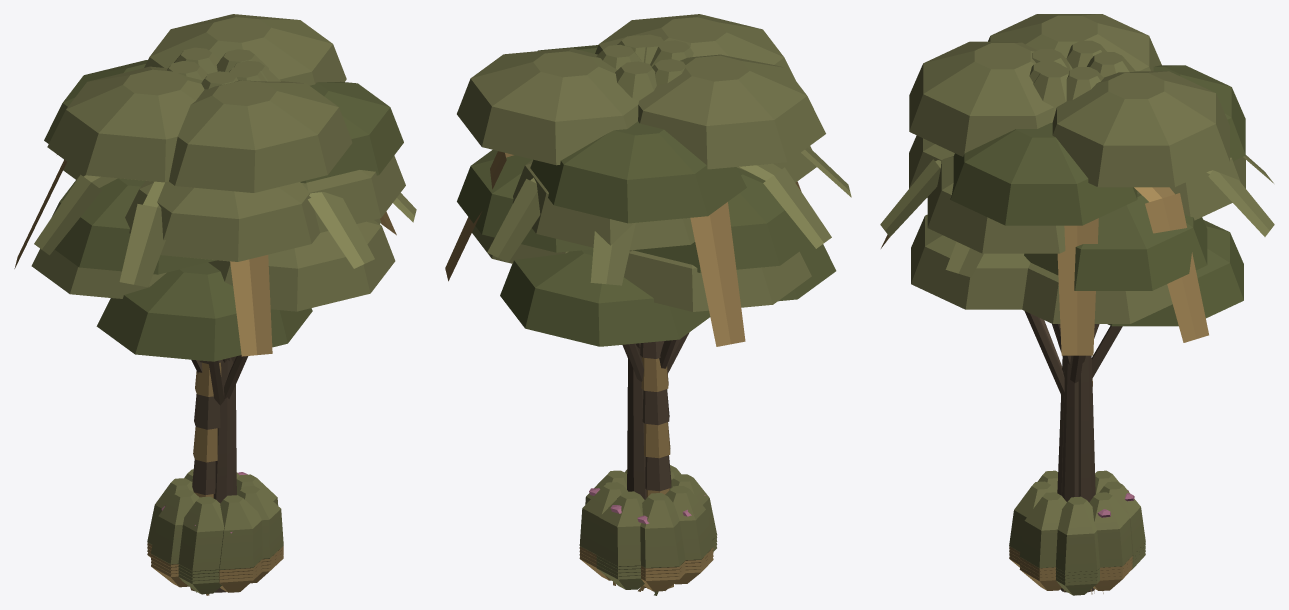
Rendered from ap_vegetacion.glb.
3 views of the same model, side by side, from view 1: azimuth 30°, elevation 25°; view 2: azimuth 150°, elevation 25°; view 3: azimuth 270°, elevation 25° (orthographic).
Parts seen in each view (by area): view 1: pino_3__malla, pino_1__malla, pino_2__malla, palmera_1__malla, adelfa_1__malla, eucalipto_2__malla, eucalipto_1__malla, mata_seca_1__malla, mata_seca_3__malla, mata_seca_2__malla; view 2: pino_3__malla, pino_1__malla, palmera_1__malla, pino_2__malla, adelfa_1__malla, eucalipto_2__malla, eucalipto_1__malla, mata_seca_1__malla, mata_seca_2__malla, mata_seca_3__malla; view 3: pino_3__malla, pino_2__malla, pino_1__malla, palmera_1__malla, adelfa_1__malla, eucalipto_2__malla, eucalipto_1__malla, mata_seca_1__malla, mata_seca_3__malla, mata_seca_2__malla.
Part boxes in pixels (left/top/right/bottom): pino_3__malla: left=44, top=14, right=403, bottom=192; pino_1__malla: left=31, top=218, right=395, bottom=592; pino_2__malla: left=52, top=155, right=405, bottom=495; palmera_1__malla: left=14, top=154, right=416, bottom=591; adelfa_1__malla: left=147, top=469, right=283, bottom=571; eucalipto_2__malla: left=174, top=47, right=280, bottom=89; eucalipto_1__malla: left=167, top=49, right=268, bottom=81; mata_seca_1__malla: left=147, top=552, right=283, bottom=594; mata_seca_3__malla: left=147, top=546, right=283, bottom=577; mata_seca_2__malla: left=147, top=549, right=283, bottom=581; pino_3__malla: left=457, top=14, right=825, bottom=587; pino_1__malla: left=472, top=226, right=836, bottom=381; palmera_1__malla: left=445, top=148, right=851, bottom=588; pino_2__malla: left=457, top=146, right=816, bottom=348; adelfa_1__malla: left=579, top=465, right=717, bottom=568; eucalipto_2__malla: left=615, top=35, right=693, bottom=100; eucalipto_1__malla: left=596, top=34, right=686, bottom=85; mata_seca_1__malla: left=579, top=546, right=716, bottom=591; mata_seca_2__malla: left=579, top=542, right=717, bottom=577; mata_seca_3__malla: left=579, top=539, right=717, bottom=574; pino_3__malla: left=909, top=14, right=1245, bottom=592; pino_2__malla: left=909, top=135, right=1245, bottom=592; pino_1__malla: left=911, top=214, right=1243, bottom=495; palmera_1__malla: left=880, top=155, right=1274, bottom=386; adelfa_1__malla: left=1009, top=470, right=1145, bottom=572; eucalipto_2__malla: left=1032, top=49, right=1135, bottom=122; eucalipto_1__malla: left=1029, top=40, right=1106, bottom=100; mata_seca_1__malla: left=1009, top=552, right=1145, bottom=595; mata_seca_3__malla: left=1009, top=546, right=1145, bottom=578; mata_seca_2__malla: left=1009, top=549, right=1145, bottom=582.
Bounding box in the file's own units: 5.6 × 8 × 5.46.
7 materials, 7 textured.
